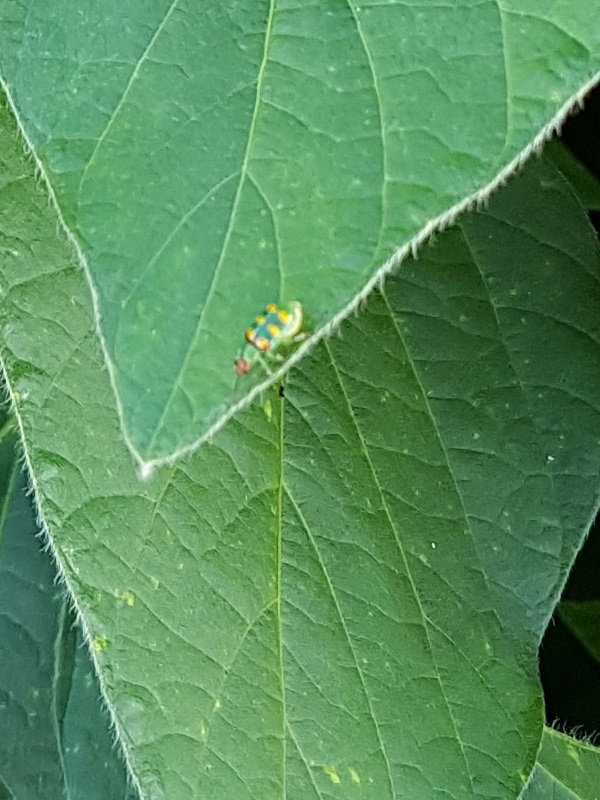Diabrotica_speciosa: (211, 281, 329, 409)
